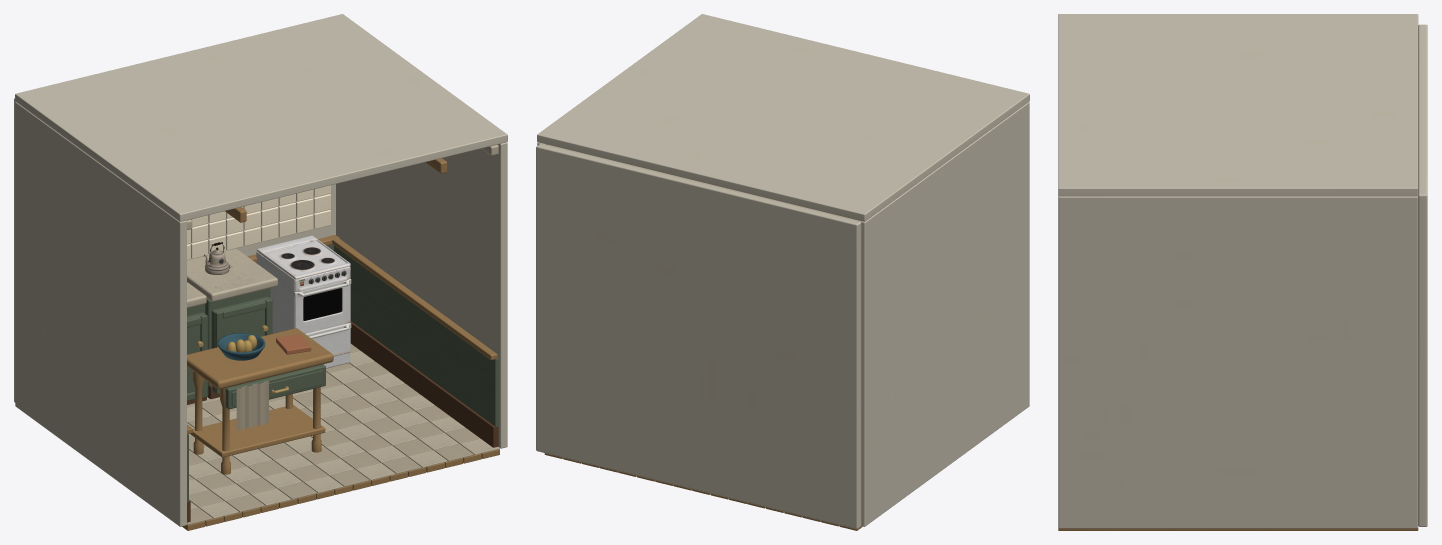
Rendered from kitchen.glb.
3 views of the same model, side by side, from view 1: azimuth 30°, elevation 25°; view 2: azimuth 150°, elevation 25°; view 3: azimuth 270°, elevation 25° (orthographic). The views are drawn at different scales.
Visible parts, largest first — view 1: Surface_Ivory_linen_plaster, Surface_Limestone, Surface_Sage_painted_wood, Surface_Linen, Surface_Warm_oak, Surface_electric_stove, Surface_Cream_ceramic, Surface_Walnut_joinery, Surface_electric_stove_glass, Surface_Cobalt_glaze, Surface_vintage_electric_kettle; view 2: Surface_Ivory_linen_plaster, Surface_Warm_oak; view 3: Surface_Ivory_linen_plaster, Surface_Warm_oak.
Part boxes in pixels (box(x1,y1,x2,y2)): Surface_Ivory_linen_plaster: box(14, 14, 507, 526); Surface_Limestone: box(186, 144, 499, 518); Surface_Sage_painted_wood: box(187, 244, 498, 502); Surface_Linen: box(187, 344, 479, 524); Surface_Warm_oak: box(182, 158, 499, 530); Surface_electric_stove: box(256, 235, 351, 368); Surface_Cream_ceramic: box(187, 185, 330, 260); Surface_Walnut_joinery: box(187, 321, 498, 522); Surface_electric_stove_glass: box(303, 288, 341, 320); Surface_Cobalt_glaze: box(218, 333, 265, 360); Surface_vintage_electric_kettle: box(203, 242, 232, 274); Surface_Ivory_linen_plaster: box(536, 14, 1029, 528); Surface_Warm_oak: box(544, 453, 862, 530); Surface_Ivory_linen_plaster: box(1058, 14, 1427, 528); Surface_Warm_oak: box(1058, 528, 1418, 530).
Size of the model in its own units: 3.04 by 2.82 by 2.72.
Materials: 19 (10 with a texture image).
